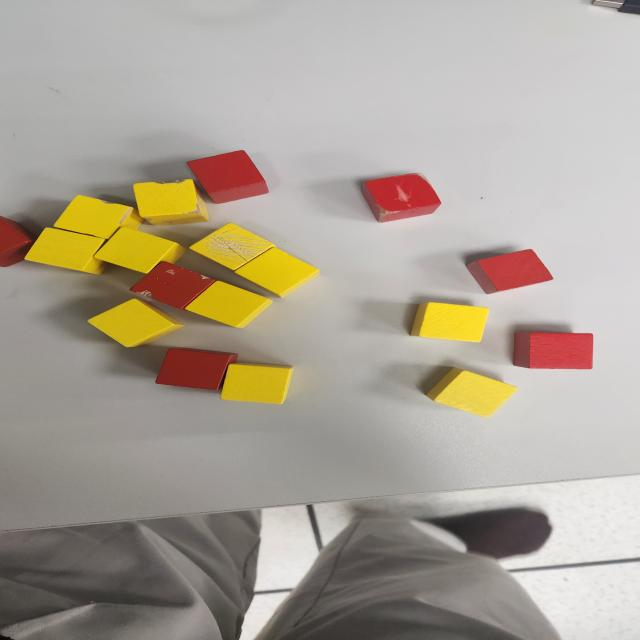broken: (130, 261, 217, 310), (190, 223, 276, 271), (361, 174, 441, 224), (54, 196, 144, 239), (132, 180, 211, 224)
red: (187, 150, 270, 204), (466, 249, 555, 294), (155, 346, 238, 389), (512, 331, 594, 369), (1, 216, 39, 268)
yellow: (87, 296, 184, 348), (424, 366, 518, 418), (236, 246, 320, 298), (92, 228, 186, 274), (184, 280, 273, 328), (28, 228, 108, 274), (411, 303, 489, 342), (220, 364, 294, 403)
